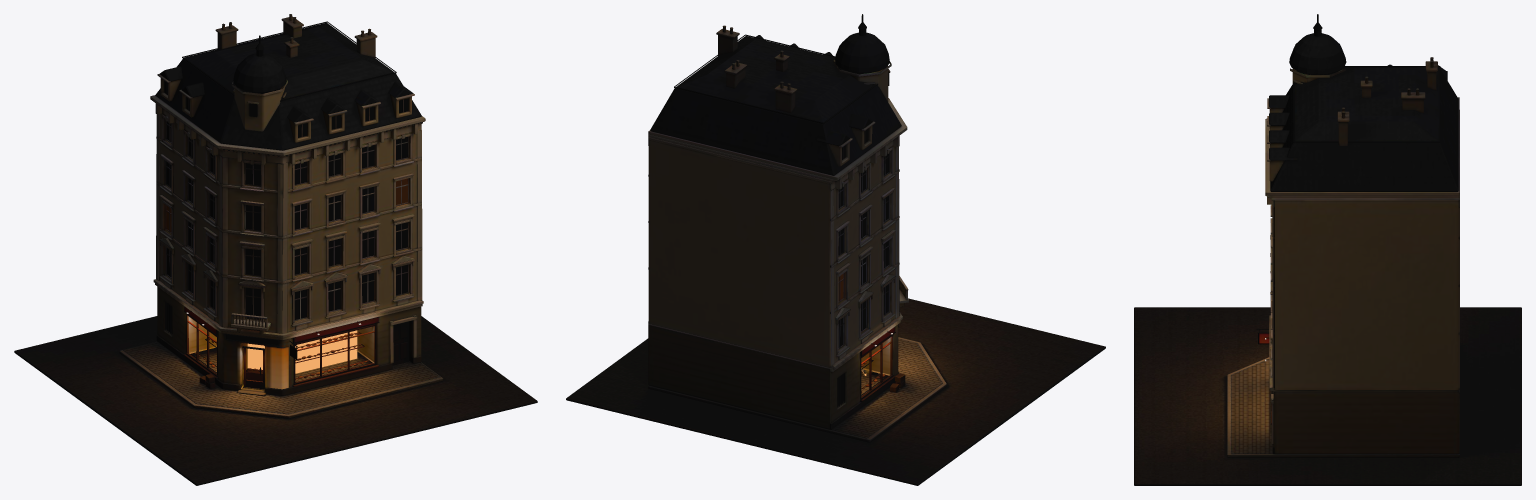
File: kuca-test.glb
3 views of the same model, side by side, from view 1: azimuth 30°, elevation 25°; view 2: azimuth 150°, elevation 25°; view 3: azimuth 270°, elevation 25° (orthographic). The views are drawn at different scales.
Parts seen in each view (by area): view 1: Kuca_bake, Tlo_bake, Izlog_svetlo; view 2: Kuca_bake, Tlo_bake; view 3: Kuca_bake, Tlo_bake.
Boxes of the visible parts, x1,y1,x2,y2 form: Kuca_bake: (150, 14, 425, 395); Tlo_bake: (14, 316, 537, 485); Izlog_svetlo: (247, 330, 357, 373); Kuca_bake: (648, 14, 908, 429); Tlo_bake: (566, 298, 1105, 485); Kuca_bake: (1256, 14, 1459, 453); Tlo_bake: (1134, 307, 1521, 485).
Size of the model in its own units: 27 by 26.52 by 25.
Materials: 3 (2 with a texture image).
